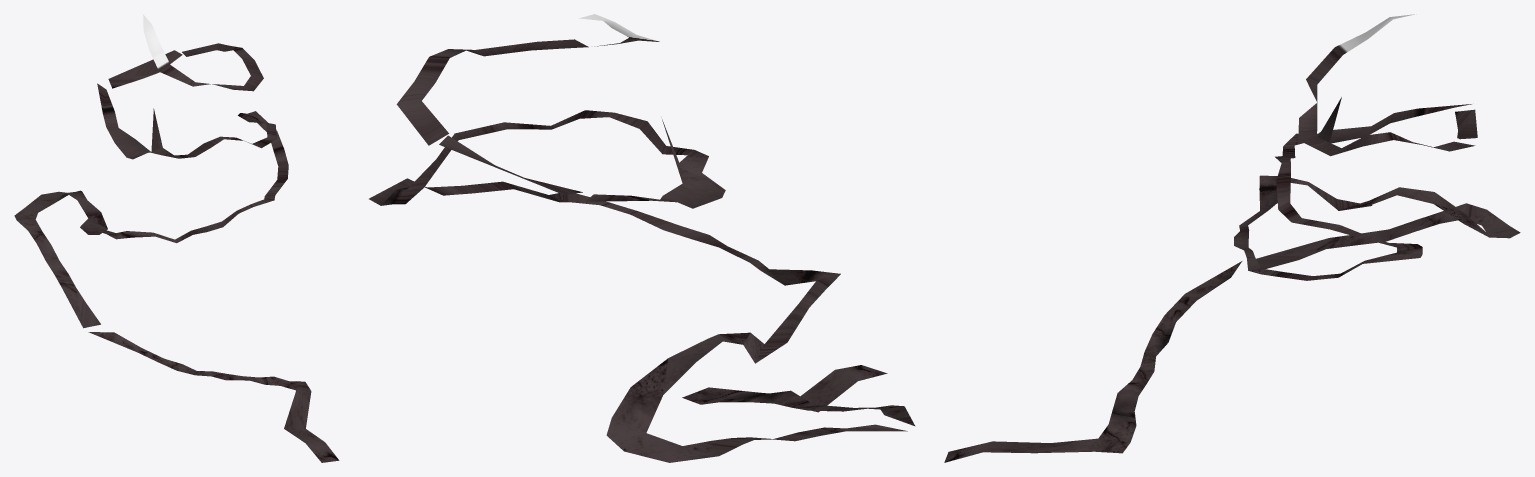
File: HikingMountainTrail.glb
3 renders of one model, left to right at view 1: azimuth 30°, elevation 25°; view 2: azimuth 150°, elevation 25°; view 3: azimuth 270°, elevation 25°, orthographic. The views are drawn at different scales.
Parts seen in each view (by area): view 1: Plane.002; view 2: Plane.002; view 3: Plane.002.
Part boxes in pixels (<box>): Plane.002: <box>14,14,339,462</box>; Plane.002: <box>369,14,915,462</box>; Plane.002: <box>944,14,1520,462</box>.
Bounding box in the file's own units: 90.7 × 120 × 144.
Materials: 1 (1 with a texture image).
